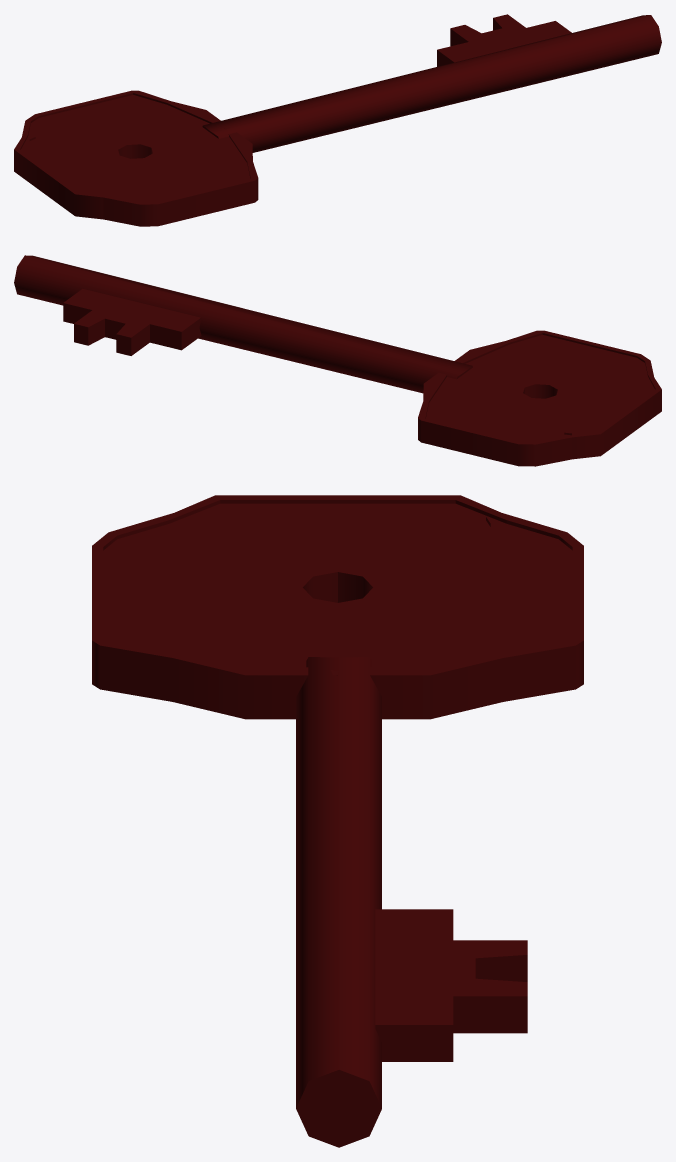
Rendered from clef_une.fbx.
3 views of the same model, one above another, from view 1: azimuth 30°, elevation 25°; view 2: azimuth 150°, elevation 25°; view 3: azimuth 270°, elevation 25° (orthographic). The views are drawn at different scales.
Parts seen in each view (by area): view 1: polySurface5, pCylinder2, pCube4, pCube11, pCube12; view 2: polySurface5, pCylinder2, pCube4, pCube11, pCube12; view 3: polySurface5, pCylinder2, pCube4, pCube12, pCube11.
Boxes of the visible parts, box(x1,y1,x2,y2) form: polySurface5: box(14, 90, 258, 226); pCylinder2: box(202, 15, 661, 152); pCube4: box(450, 14, 542, 54); pCube11: box(437, 42, 485, 66); pCube12: box(527, 21, 571, 40); polySurface5: box(418, 330, 661, 466); pCylinder2: box(14, 255, 472, 393); pCube4: box(74, 296, 168, 355); pCube11: box(150, 310, 201, 350); pCube12: box(63, 289, 111, 323); polySurface5: box(92, 495, 583, 719); pCylinder2: box(296, 657, 381, 1147); pCube4: box(375, 940, 527, 1033); pCube12: box(375, 996, 453, 1061); pCube11: box(375, 909, 453, 940).
Size of the model in its own units: 13.64 by 0.8389 by 4.79.
